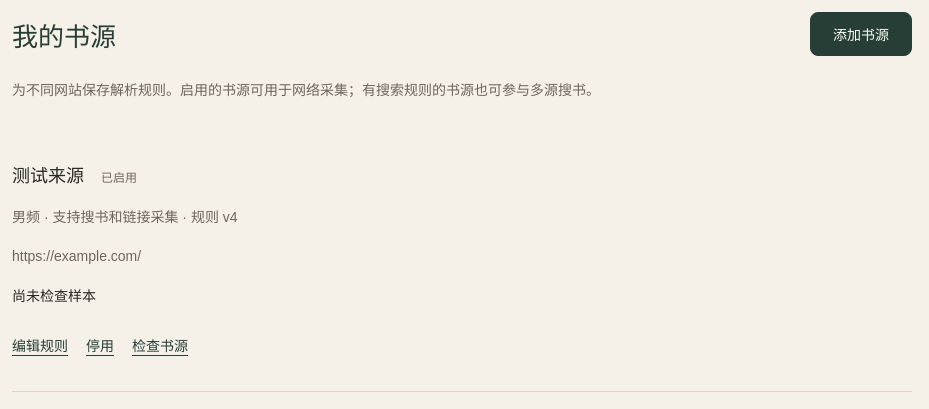
Test: hides private source data and in-flight search results when authentication expires
Step 1. Click the button "停用" → (100, 345), box [86,323,114,367]
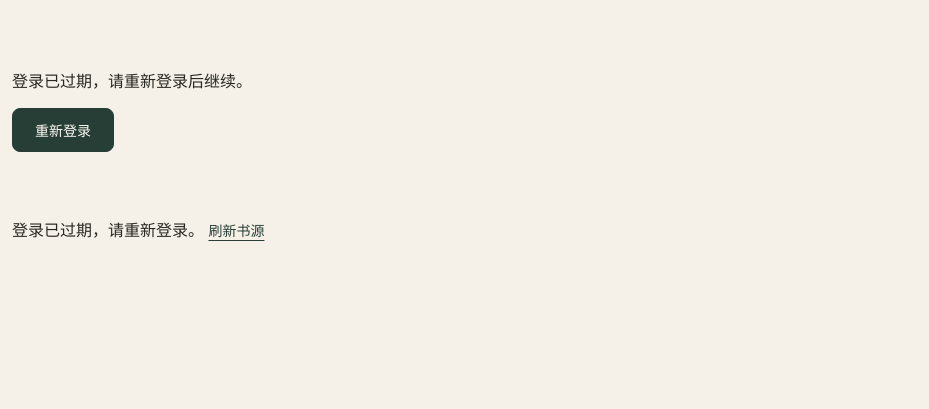
Result: the text "重新登录" is shown at [12,73,252,90]
Result: the text "测试来源" is gone
Result: the text "添加书源" is gone
